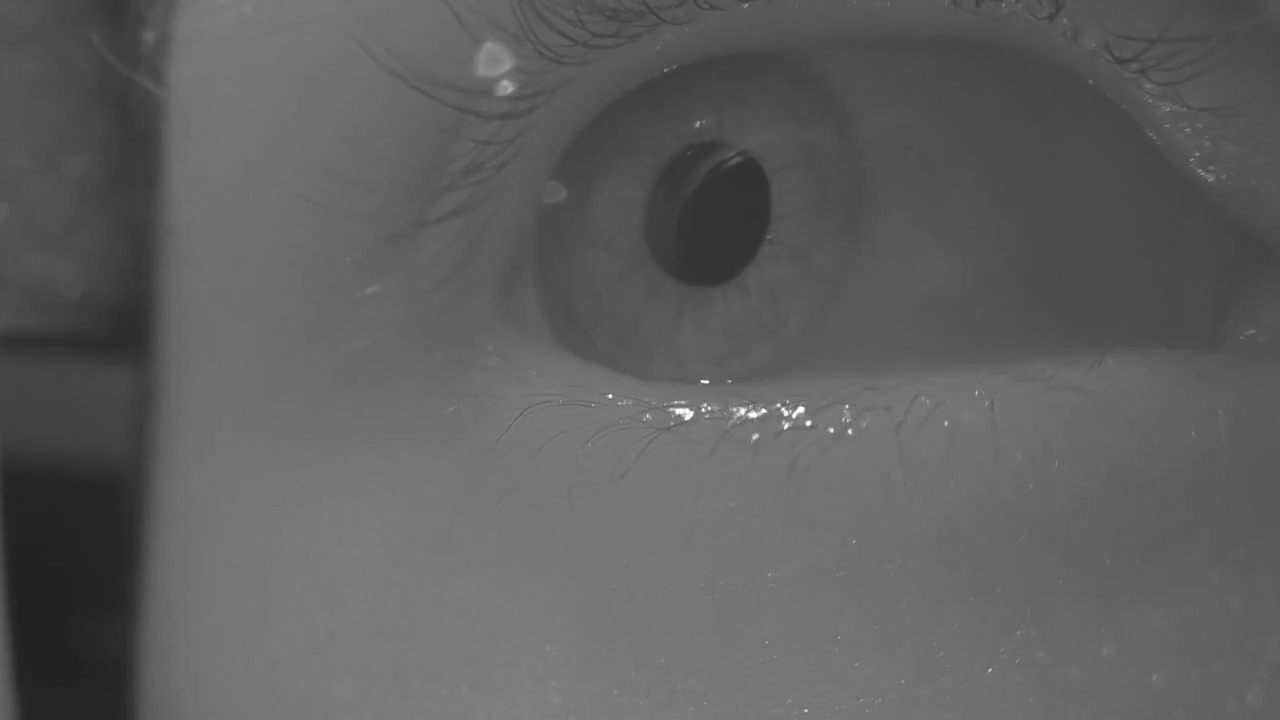pupil: (644, 143, 772, 285)
